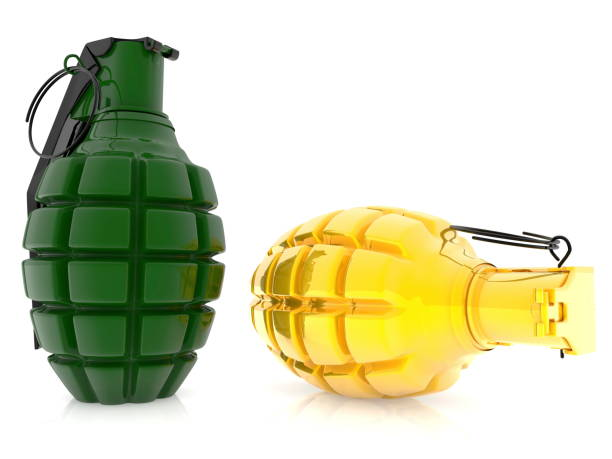e1: (20, 37, 227, 405), (247, 204, 600, 401)
